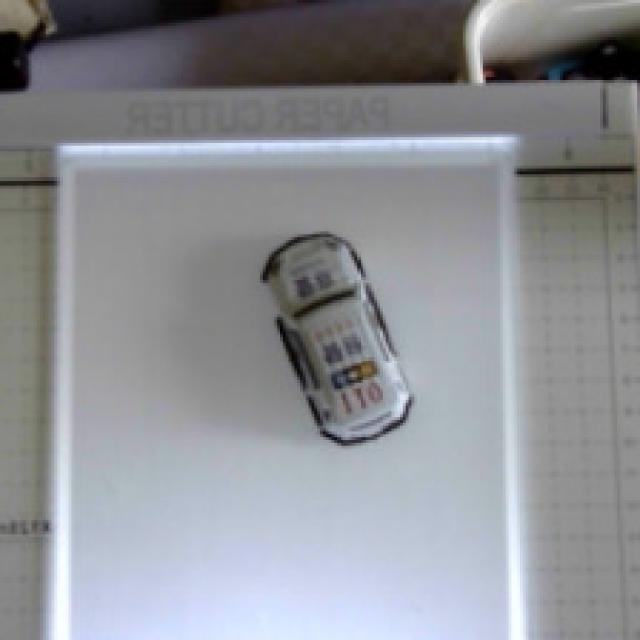Grey Car: (223, 216, 450, 469)
